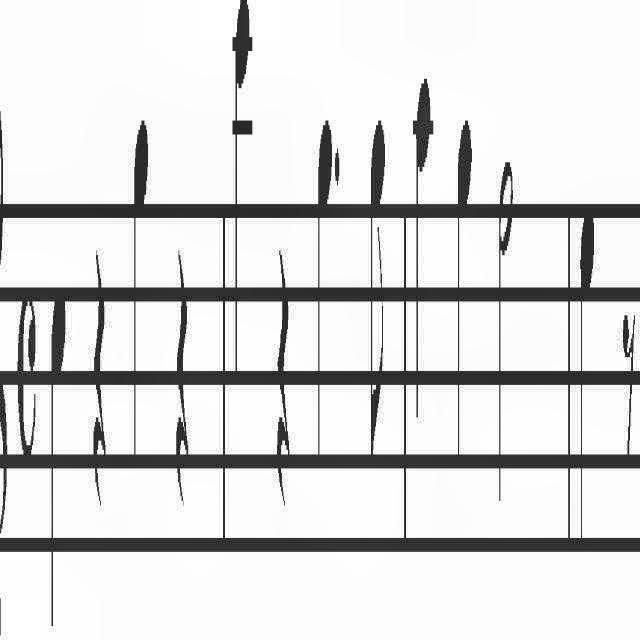Bass-clef: (0, 23, 11, 640)
Eighth-note: (367, 45, 387, 519)
Eighth-rest: (618, 272, 634, 484)
Half-note: (497, 81, 519, 522)
Quarter-note: (124, 74, 156, 522), (412, 45, 440, 488), (227, 0, 257, 394), (453, 61, 475, 543), (576, 160, 600, 600), (313, 74, 335, 518), (43, 251, 69, 609)
Quarter-rest: (269, 189, 299, 626), (88, 226, 112, 574), (172, 206, 196, 554)
